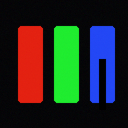4 line_v: (99, 59, 105, 109)
